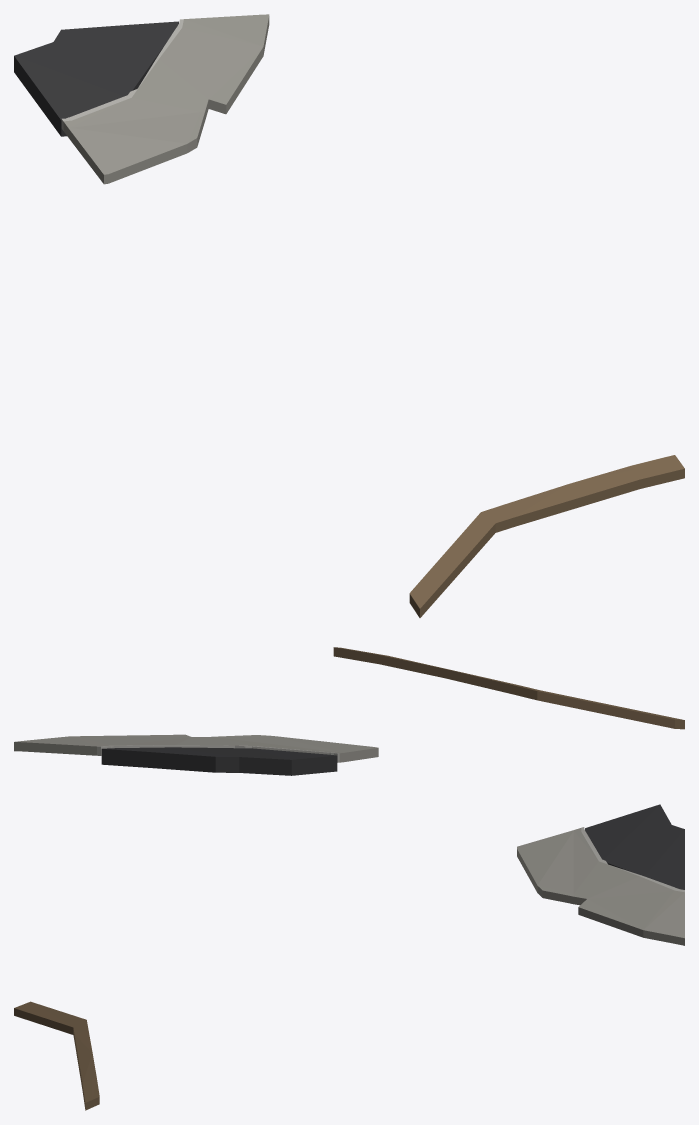
3 views of the same model, one above another, from view 1: azimuth 30°, elevation 25°; view 2: azimuth 150°, elevation 25°; view 3: azimuth 270°, elevation 25° (orthographic). The views are drawn at different scales.
Bounding box in the file's own units: 23.68 × 19.4 × 55.79.
